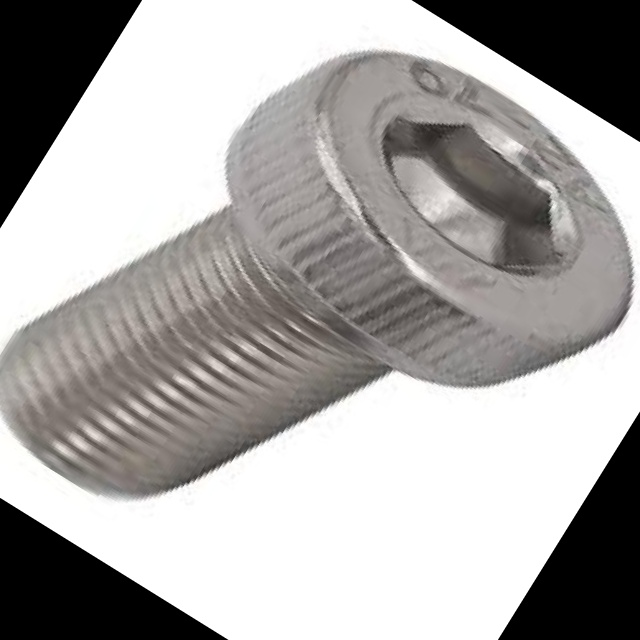allen: (257, 6, 640, 382)
